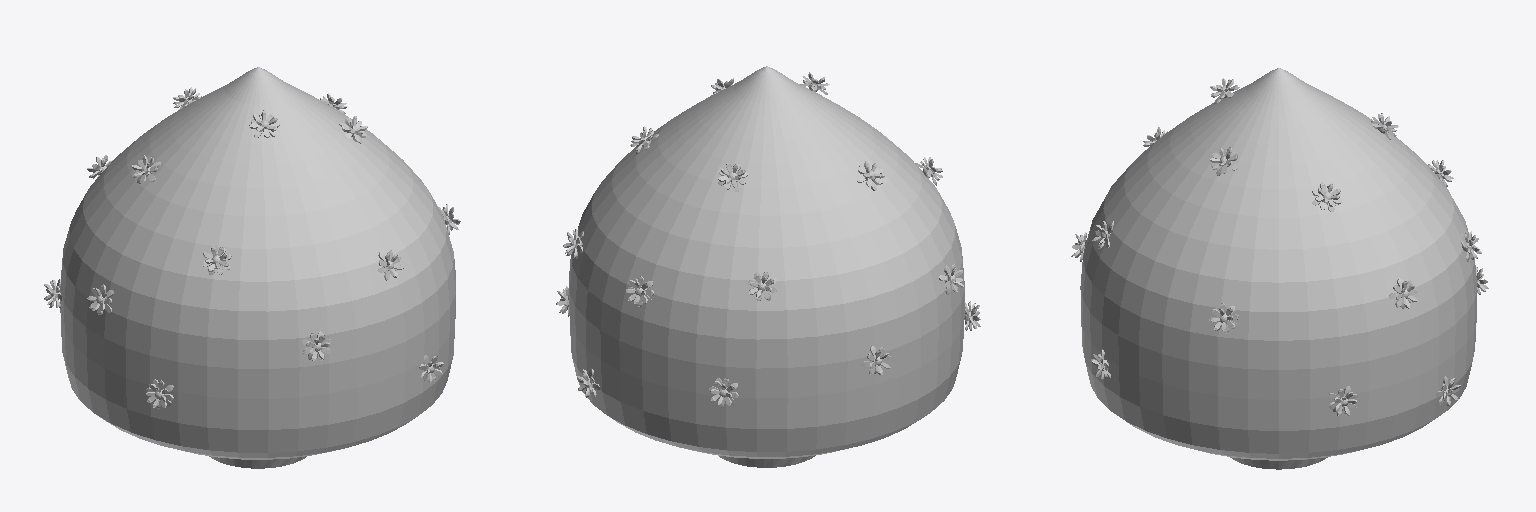
The model's file is flowerbush.obj.
3 renders of one model, left to right at view 1: azimuth 30°, elevation 25°; view 2: azimuth 150°, elevation 25°; view 3: azimuth 270°, elevation 25°, orthographic.
Visible parts, largest first — view 1: polySurface145; view 2: polySurface145; view 3: polySurface145.
Part boxes in pixels (x1,y1,x2,y2): polySurface145: (44, 67, 460, 468); polySurface145: (556, 66, 980, 467); polySurface145: (1071, 68, 1488, 469).
Size of the model in its own units: 4.21 by 4.22 by 4.23.